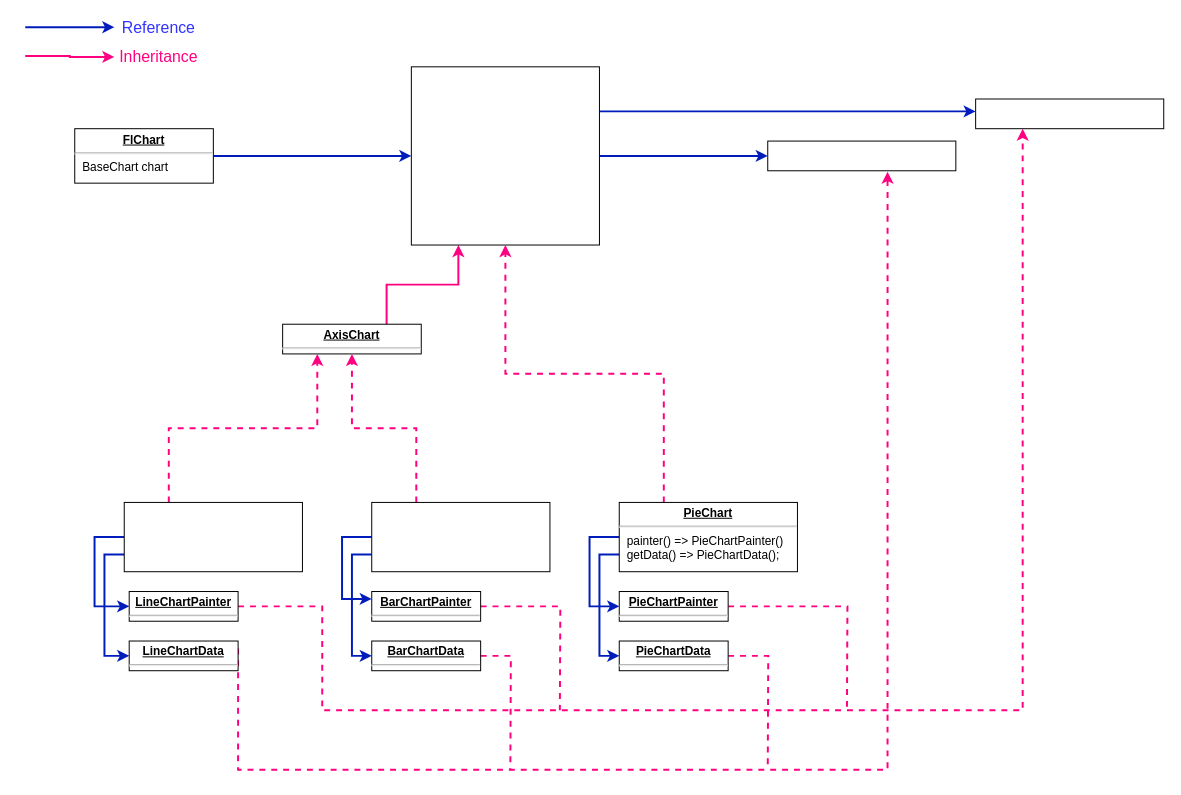
Image size: 1181x795. Some labels were removed from this diagram. The shapes that lost their labels are listed below. From the top down, each one's centre as x and y in pixels, then its label:
[1069,113]: abstract BaseChartPainter
[504,155]: abstract BaseChart BaseChartPainter painter(); BaseChartData getData();
[861,155]: abstract BaseChartData
[212,536]: LineChart painter() => LineChartPainter() getData() => LineChartData();
[460,536]: BarChart painter() => BarChartPainter() getData() => BarChartData();
